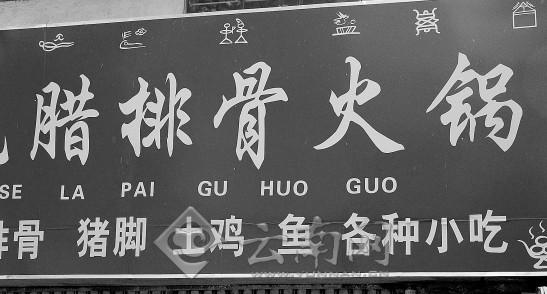chinese: (24, 65, 527, 162), (1, 215, 510, 258)
naxi: (29, 6, 447, 55)
